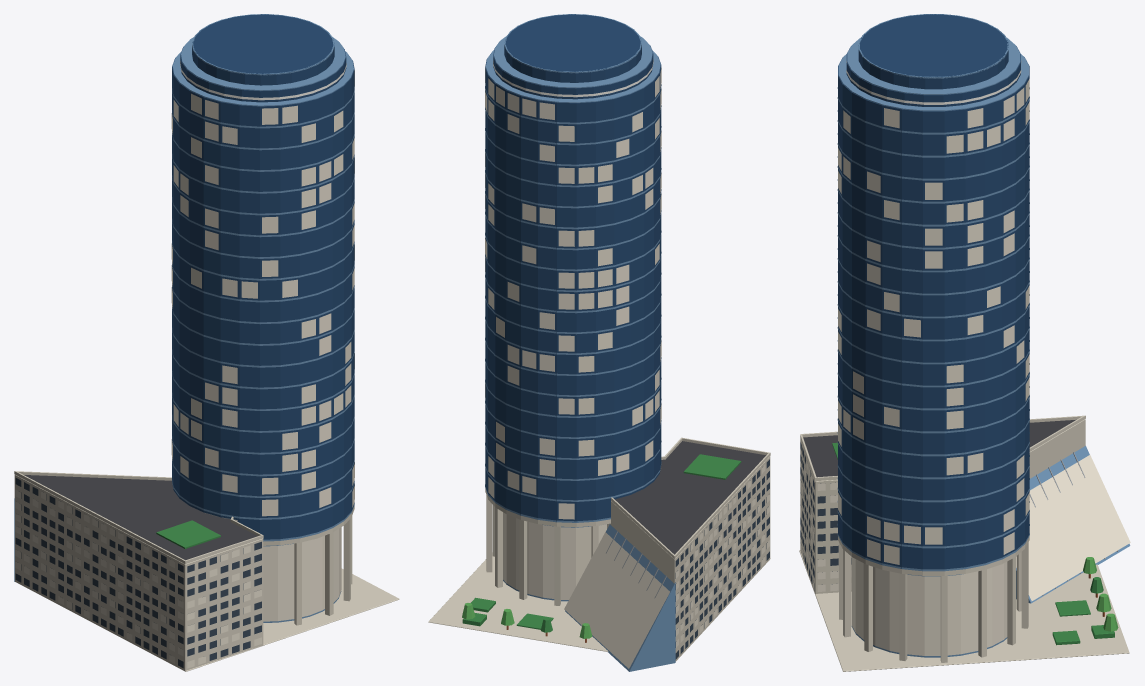
File: 101-california-street.glb
3 views of the same model, side by side, from view 1: azimuth 30°, elevation 25°; view 2: azimuth 150°, elevation 25°; view 3: azimuth 270°, elevation 25° (orthographic). The views are drawn at different scales.
Parts seen in each view (by area): view 1: 101-california-street_body, 101-california-street_night_glow; view 2: 101-california-street_body, 101-california-street_night_glow; view 3: 101-california-street_body, 101-california-street_night_glow.
Part boxes in pixels (left/top/right/bottom): 101-california-street_body: left=14, top=14, right=399, bottom=671; 101-california-street_night_glow: left=15, top=61, right=354, bottom=668; 101-california-street_body: left=428, top=14, right=770, bottom=671; 101-california-street_night_glow: left=485, top=59, right=769, bottom=668; 101-california-street_body: left=799, top=14, right=1130, bottom=671; 101-california-street_night_glow: left=800, top=61, right=1130, bottom=655.
Bounding box in the file's own units: 94.99 × 183 × 95.12.
